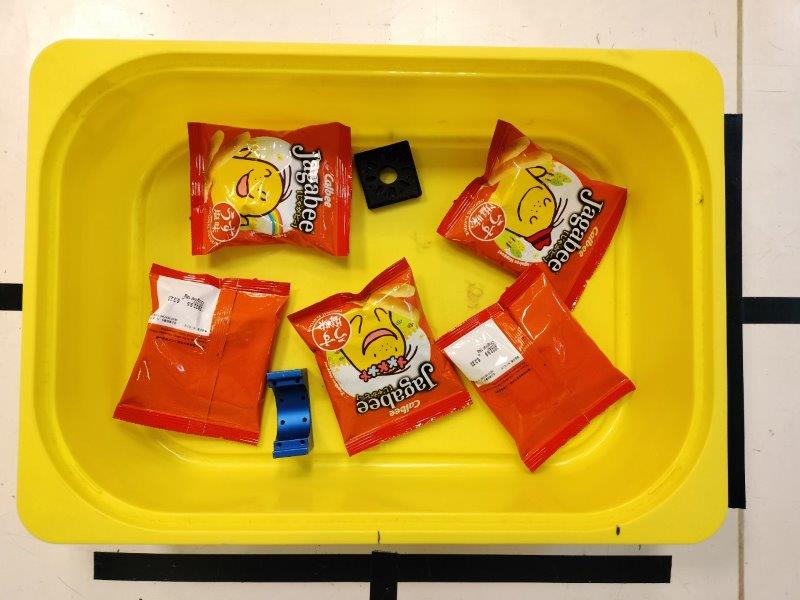Jagabee: (436, 265, 637, 473), (438, 119, 629, 314), (288, 259, 473, 457), (113, 264, 290, 446), (187, 123, 352, 255)
